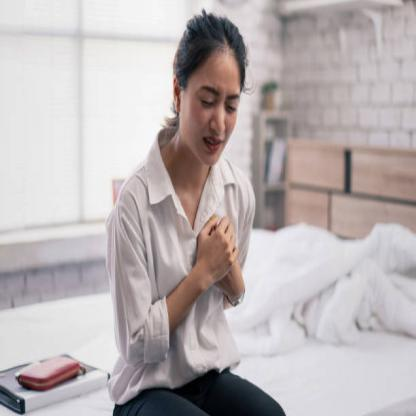pain: (193, 79, 240, 121)
